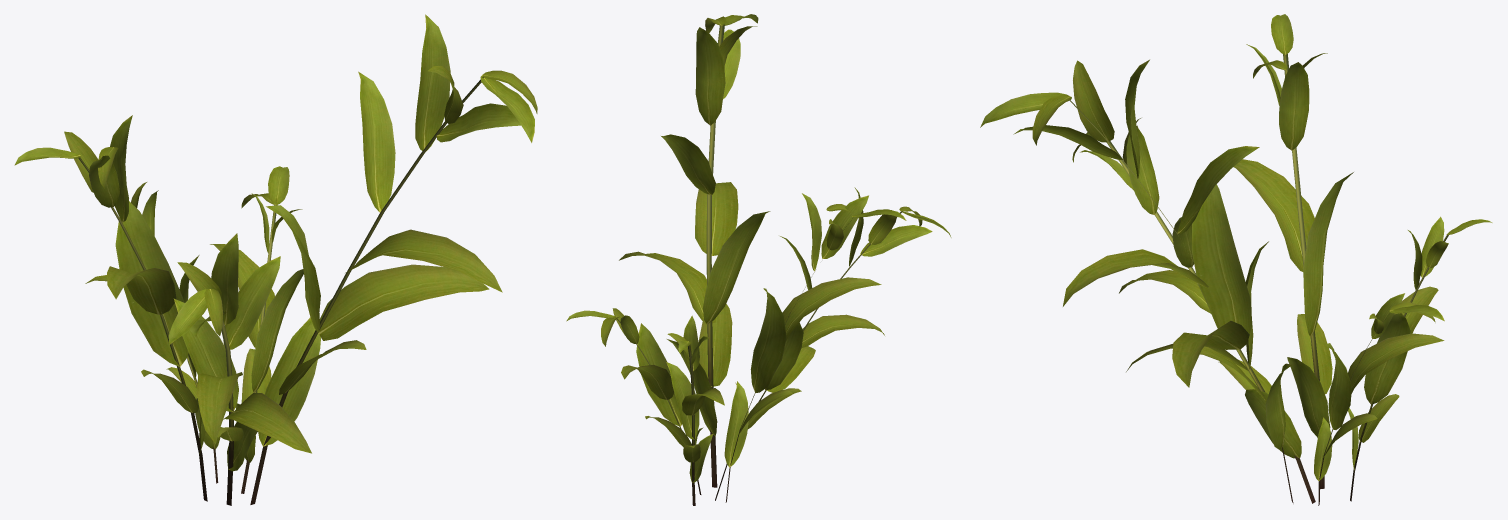
File: leafplant4_lod0.fbx
3 renders of one model, left to right at view 1: azimuth 30°, elevation 25°; view 2: azimuth 150°, elevation 25°; view 3: azimuth 270°, elevation 25°, orthographic. The views are drawn at different scales.
Parts seen in each view (by area): view 1: Mesh Object; view 2: Mesh Object; view 3: Mesh Object.
Part boxes in pixels (x1,y1,x2,y2): Mesh Object: (14, 14, 537, 505); Mesh Object: (566, 14, 951, 505); Mesh Object: (980, 14, 1492, 505).
Bounding box in the file's own units: 1.12 × 1.33 × 1.26.
